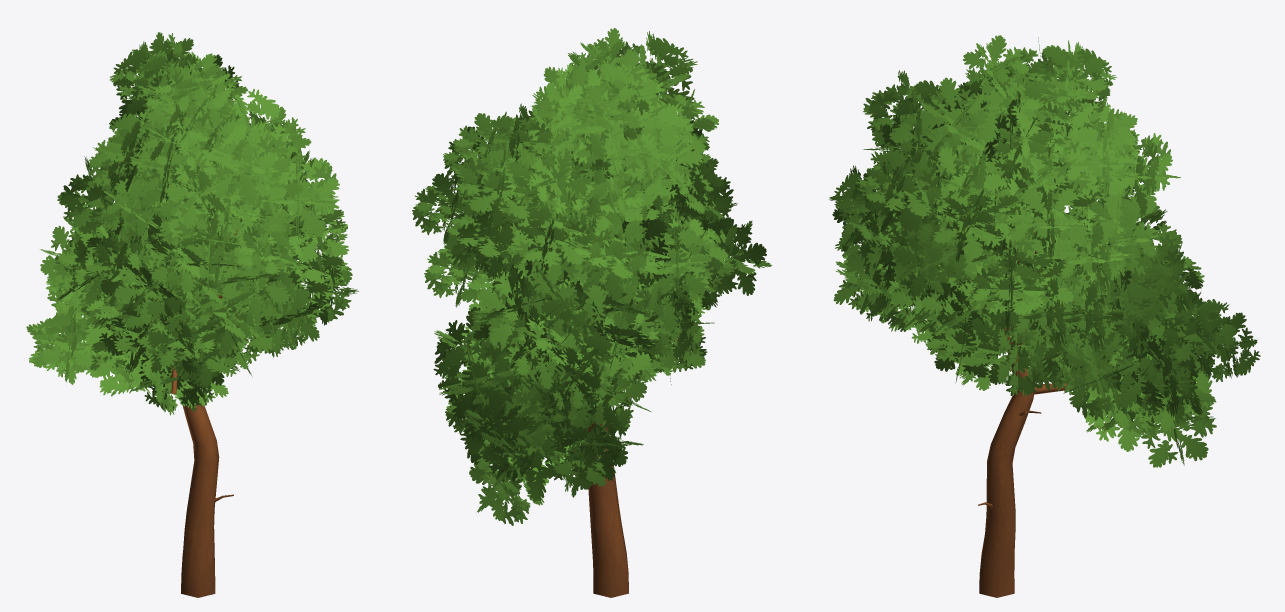
File: oak_02.glb
3 views of the same model, side by side, from view 1: azimuth 30°, elevation 25°; view 2: azimuth 150°, elevation 25°; view 3: azimuth 270°, elevation 25° (orthographic). The views are drawn at different scales.
Parts seen in each view (by area): view 1: oak_02; view 2: oak_02; view 3: oak_02.
Boxes of the visible parts, x1,y1,x2,y2 form: oak_02: [26, 32, 358, 597]; oak_02: [412, 28, 771, 597]; oak_02: [829, 35, 1260, 597].
Size of the model in its own units: 10.58 by 20.28 by 14.93.
Materials: 2 (2 with a texture image).
